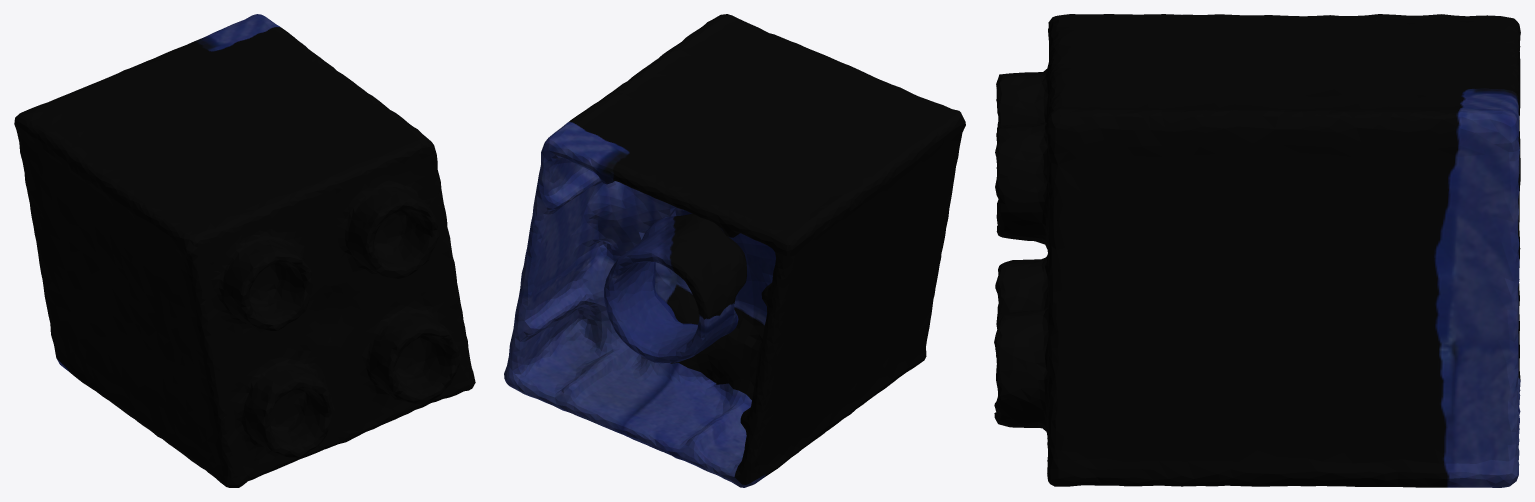
3 renders of one model, left to right at view 1: azimuth 30°, elevation 25°; view 2: azimuth 150°, elevation 25°; view 3: azimuth 270°, elevation 25°, orthographic. The views are drawn at different scales.
Parts seen in each view (by area): view 1: node; view 2: node; view 3: node.
Part boxes in pixels (<box>): node: <box>14,14,475,487</box>; node: <box>504,14,965,487</box>; node: <box>994,14,1520,487</box>.
Bounding box in the file's own units: 0.0369 × 0.0368 × 0.0433.
